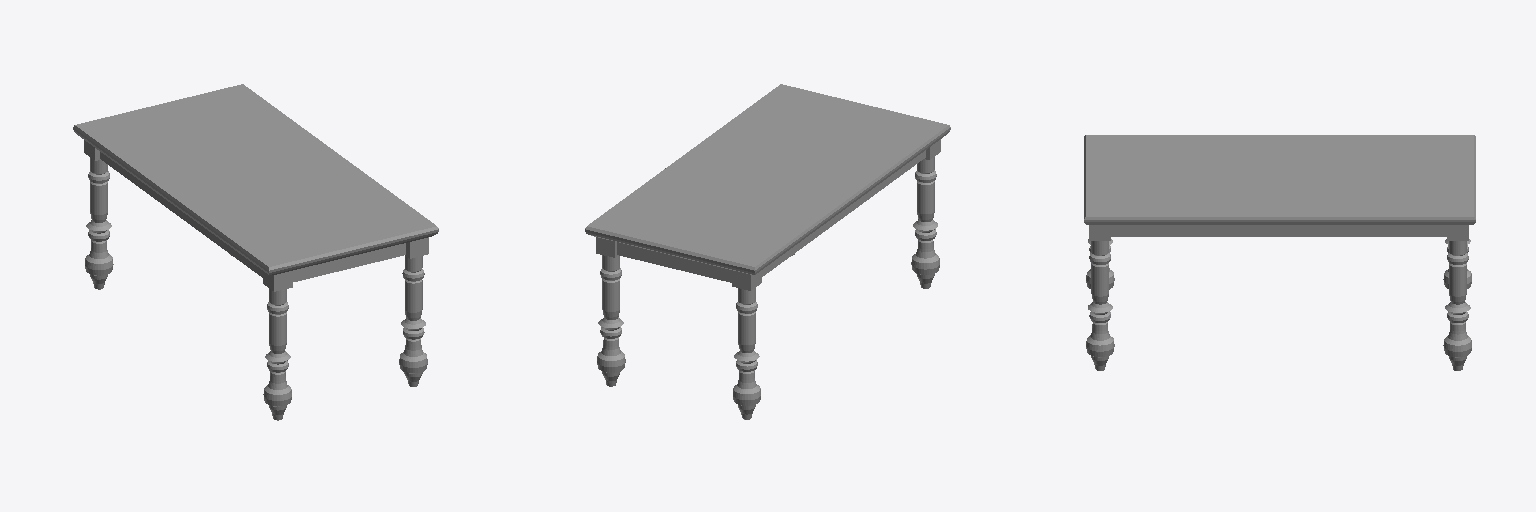
Rendered from Table_1.obj.
3 renders of one model, left to right at view 1: azimuth 30°, elevation 25°; view 2: azimuth 150°, elevation 25°; view 3: azimuth 270°, elevation 25°, orthographic.
Visible parts, largest first — view 1: Cylinder.002; view 2: Cylinder.002; view 3: Cylinder.002.
Boxes of the visible parts, box(x1,y1,x2,y2) form: Cylinder.002: box(73, 84, 438, 420); Cylinder.002: box(585, 84, 950, 419); Cylinder.002: box(1084, 135, 1475, 370).
Bounding box in the file's own units: 20.17 × 18.25 × 40.35.